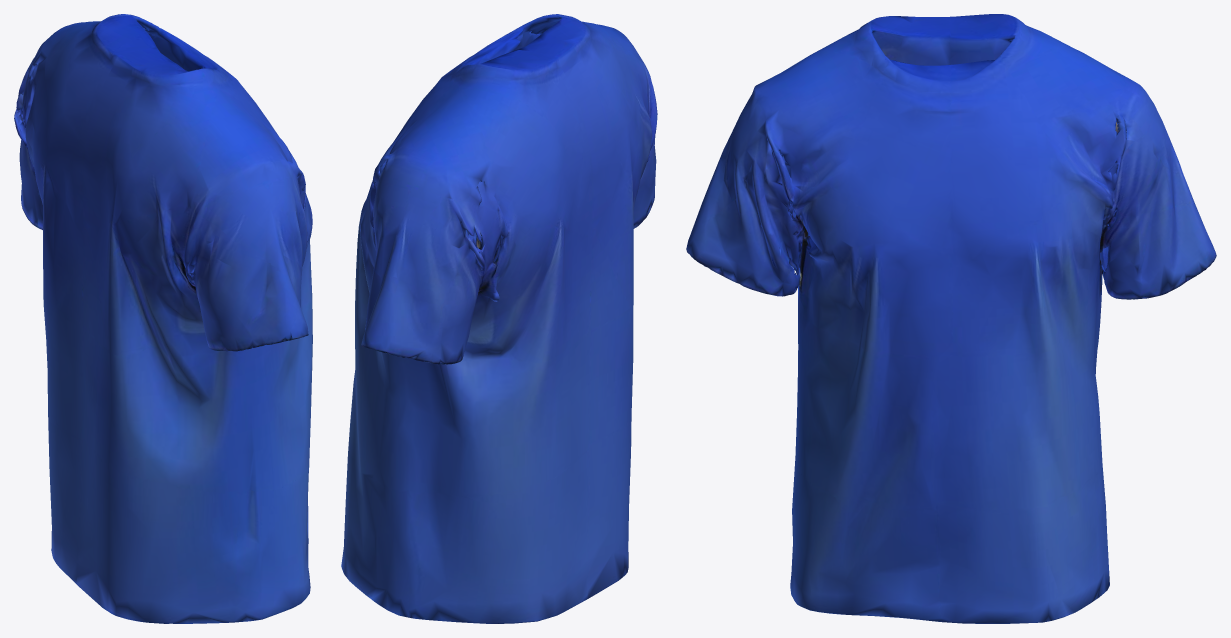
3 views of the same model, side by side, from view 1: azimuth 30°, elevation 25°; view 2: azimuth 150°, elevation 25°; view 3: azimuth 270°, elevation 25° (orthographic). The views are drawn at different scales.
Parts seen in each view (by area): view 1: tripo_node_6135d2ac-17ef-4bb3-86a1-8ce1aacf236b; view 2: tripo_node_6135d2ac-17ef-4bb3-86a1-8ce1aacf236b; view 3: tripo_node_6135d2ac-17ef-4bb3-86a1-8ce1aacf236b.
Part boxes in pixels (left/top/right/bottom): tripo_node_6135d2ac-17ef-4bb3-86a1-8ce1aacf236b: left=14, top=14, right=312, bottom=623; tripo_node_6135d2ac-17ef-4bb3-86a1-8ce1aacf236b: left=341, top=14, right=657, bottom=623; tripo_node_6135d2ac-17ef-4bb3-86a1-8ce1aacf236b: left=686, top=14, right=1216, bottom=623.
Size of the model in its own units: 0.4139 by 0.9994 by 0.8756.
Materials: 1 (1 with a texture image).
